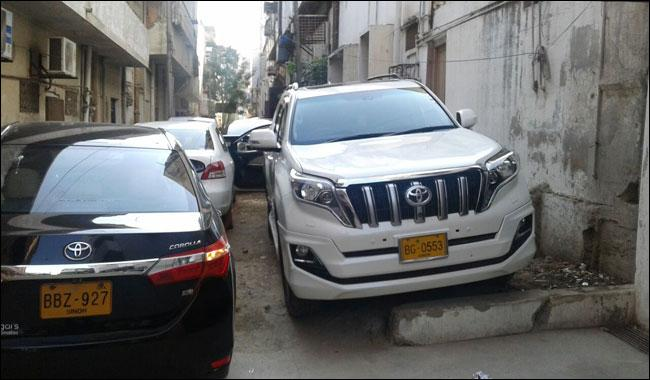license plate: (38, 283, 114, 319), (397, 236, 451, 261)
